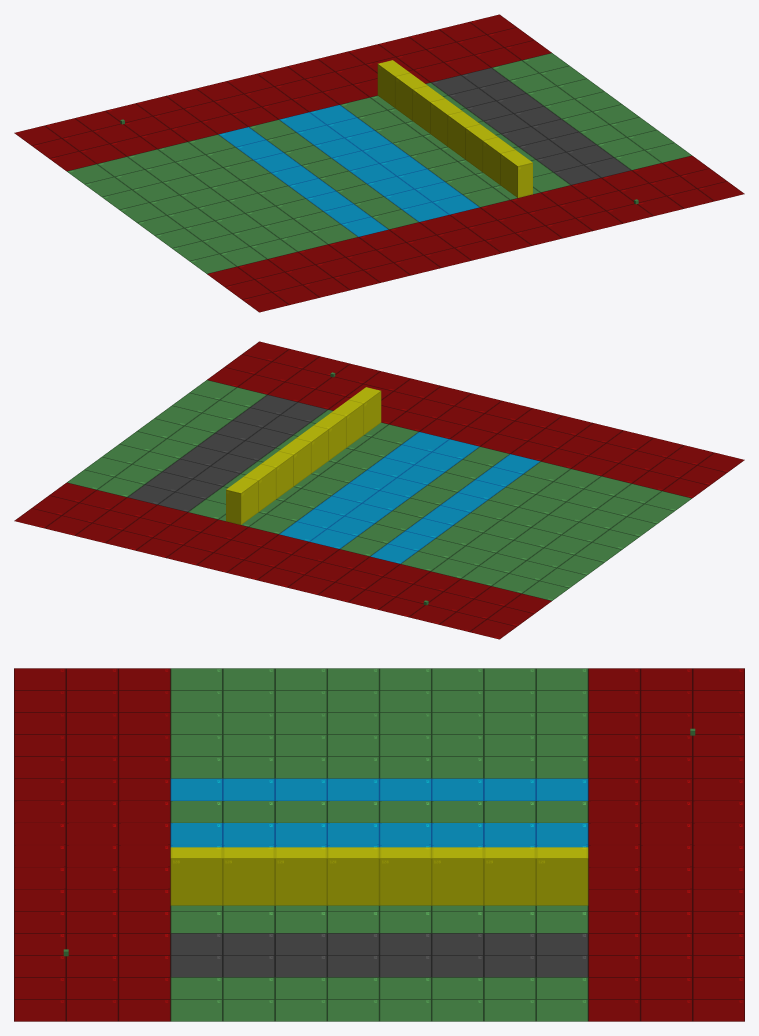
The model's file is test_level_v01.FBX.
The picture shows the model from 3 angles, top to bottom: view 1: azimuth 30°, elevation 25°; view 2: azimuth 150°, elevation 25°; view 3: azimuth 270°, elevation 25°; orthographic projection. The views are drawn at different scales.
Visible parts, largest first — view 1: 1x14 (×16), block_01 (×2), block_003, block_005, block_007, block_004, block_006, block_002; view 2: 1x14 (×16), block_01 (×2), block_007, block_002, block_004, block_003, block_005, block_006; view 3: 1x14 (×16), block_01 (×2), block_002, block_003, block_004, block_005, block_007, block_006.
Part boxes in pixels (box(x1,y1,x2,y2)): 1x14 (×16): box(14, 14, 744, 312); block_01 (×2): box(483, 137, 532, 197); block_003: box(447, 111, 479, 159); block_005: box(412, 85, 444, 133); block_007: box(377, 60, 409, 107); block_004: box(430, 98, 462, 146); block_006: box(395, 73, 427, 120); block_002: box(465, 124, 497, 172); 1x14 (×16): box(14, 341, 744, 639); block_01 (×2): box(331, 387, 381, 447); block_007: box(226, 477, 258, 524); block_002: box(314, 412, 346, 460); block_004: box(279, 438, 311, 486); block_003: box(296, 425, 328, 473); block_005: box(261, 451, 293, 499); block_006: box(243, 464, 275, 511); 1x14 (×16): box(14, 668, 744, 1021); block_01 (×2): box(170, 847, 274, 905); block_002: box(275, 847, 327, 905); block_003: box(327, 847, 379, 905); block_004: box(379, 847, 431, 905); block_005: box(431, 847, 483, 905); block_007: box(536, 847, 588, 905); block_006: box(484, 847, 535, 905).
Size of the model in its own units: 1600 by 1400 by 100.
5 materials, 5 textured.
